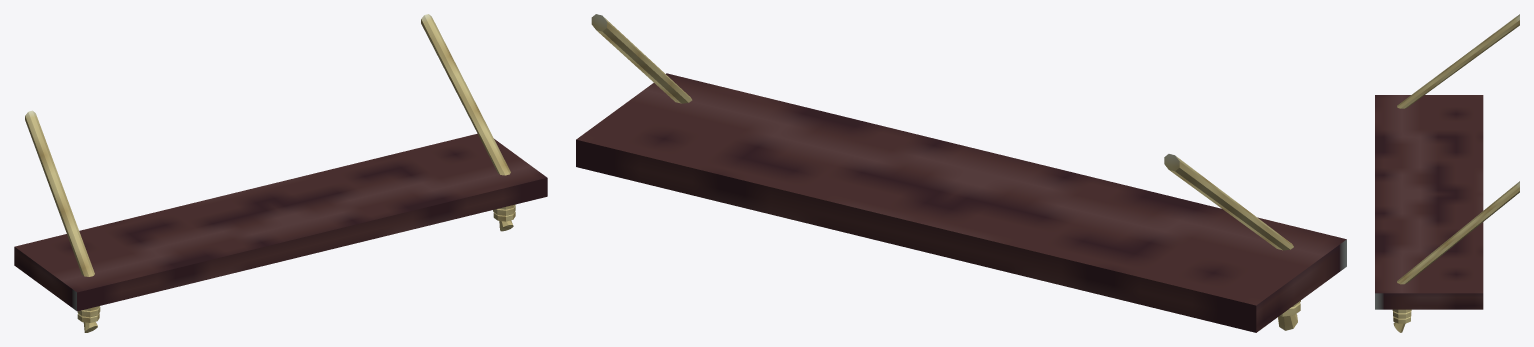
The model's file is Shelf.fbx.
3 views of the same model, side by side, from view 1: azimuth 30°, elevation 25°; view 2: azimuth 150°, elevation 25°; view 3: azimuth 270°, elevation 25° (orthographic). The views are drawn at different scales.
Visible parts, largest first — view 1: Cube.007; view 2: Cube.007; view 3: Cube.007.
Part boxes in pixels (left/top/right/bottom): Cube.007: left=14, top=14, right=547, bottom=332; Cube.007: left=576, top=14, right=1346, bottom=332; Cube.007: left=1375, top=14, right=1519, bottom=332.
Size of the model in its own units: 1.62 by 0.5018 by 0.5588.
